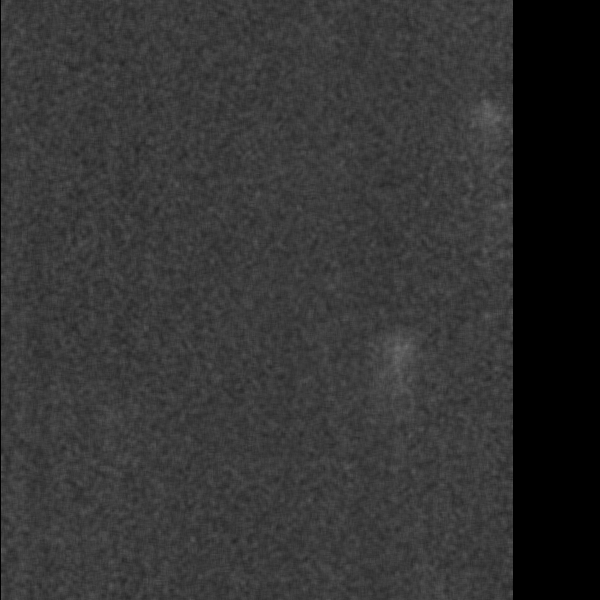spark: (5, 452, 49, 565), (167, 164, 209, 233), (424, 90, 458, 148)
